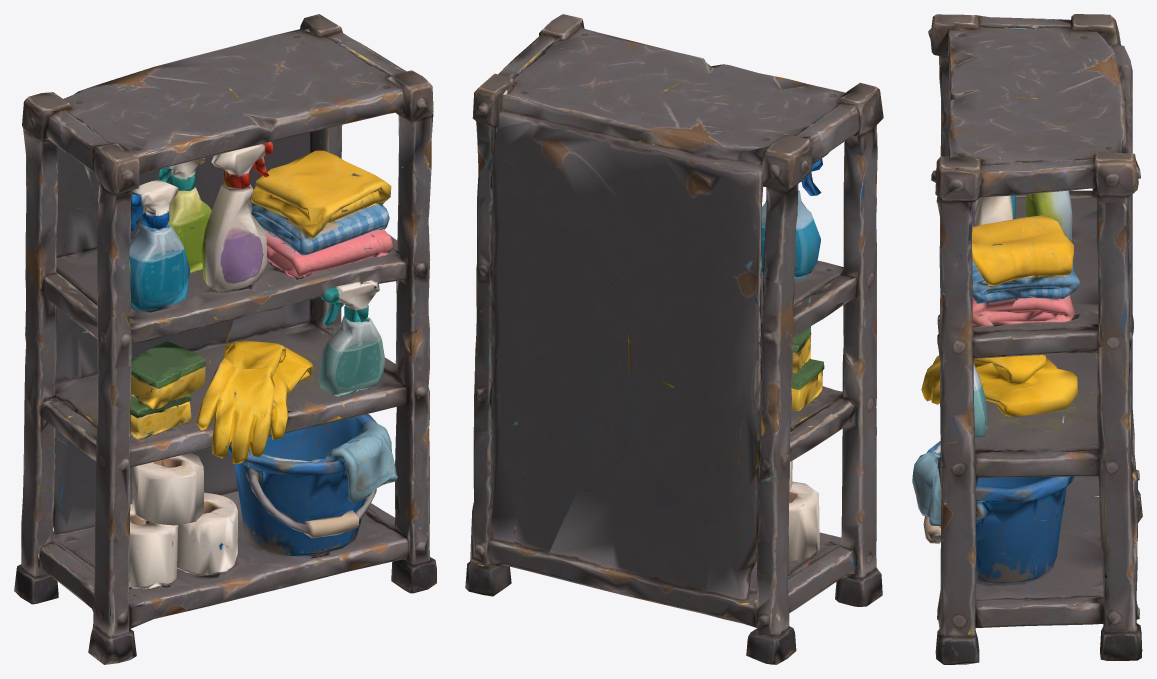
File: d_cleaning_shelf.glb
The picture shows the model from 3 angles, left to right: view 1: azimuth 30°, elevation 25°; view 2: azimuth 150°, elevation 25°; view 3: azimuth 270°, elevation 25°; orthographic projection.
Bounding box in the file's own units: 1.31 × 1.9 × 0.7996.
1 material, 1 textured.
